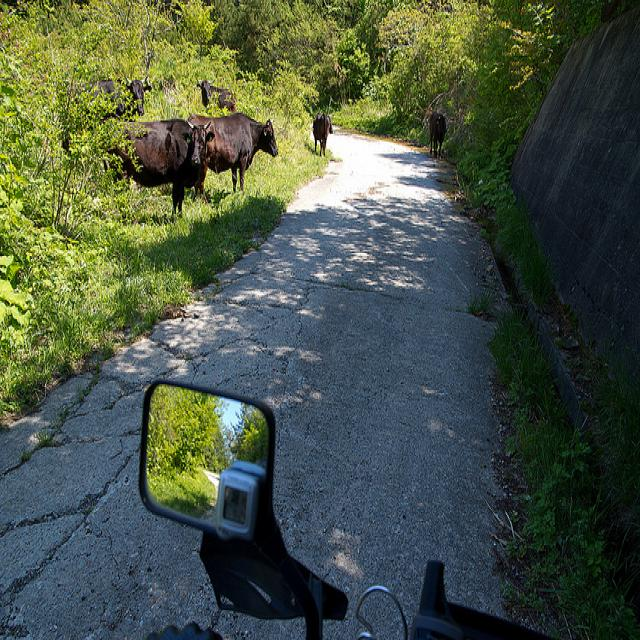motor: (140, 378, 501, 632)
